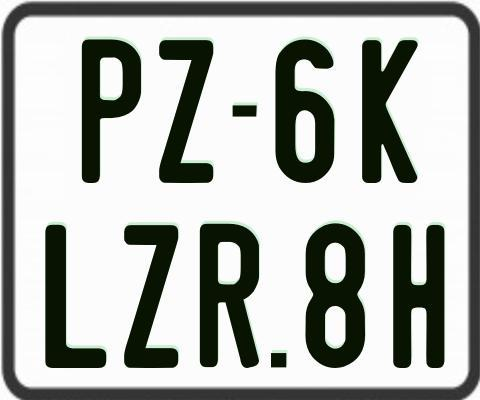6: (274, 39, 333, 183)
8: (303, 221, 363, 371)
H: (392, 222, 444, 371)
K: (360, 38, 420, 187)
L: (43, 223, 109, 369)
P: (80, 37, 139, 183)
R: (198, 221, 261, 365)
Z: (121, 223, 181, 371), (157, 39, 217, 183)
